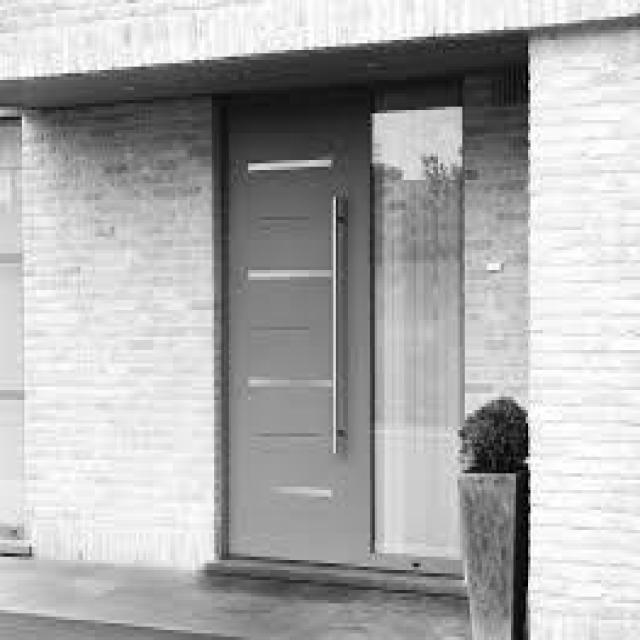door: (223, 71, 396, 568)
